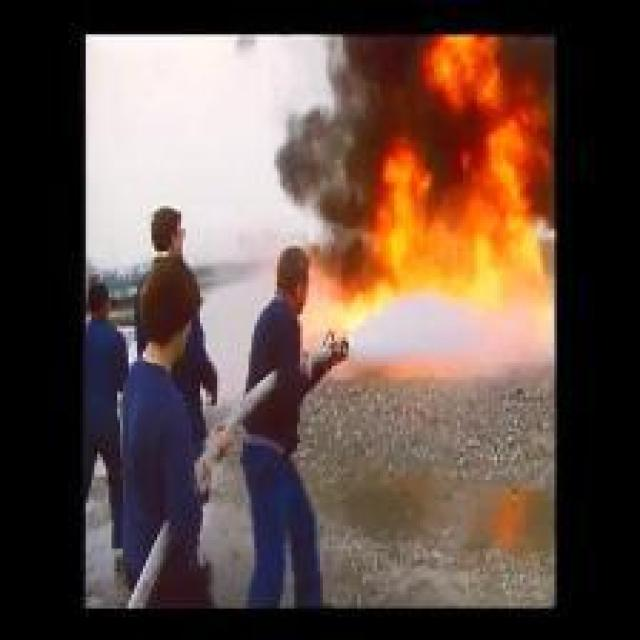fire: (337, 43, 548, 364)
smoke: (259, 38, 456, 234)
